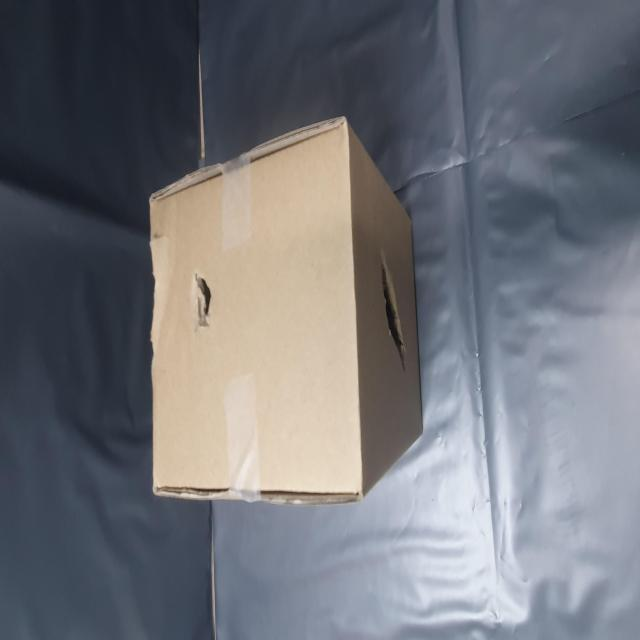damaged: (172, 333, 212, 386)
